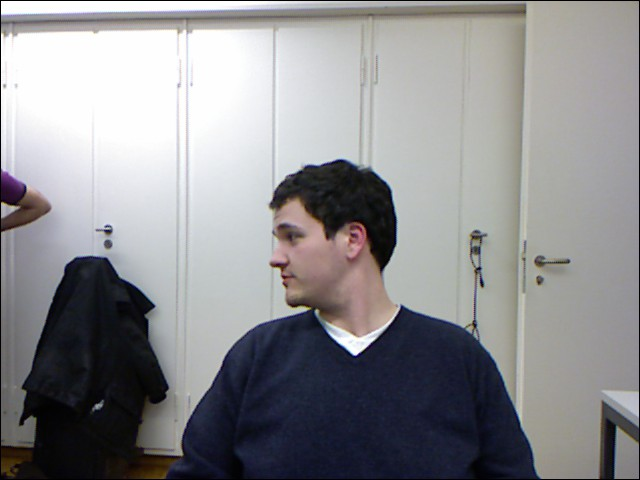deflection: (239, 182, 472, 474)
